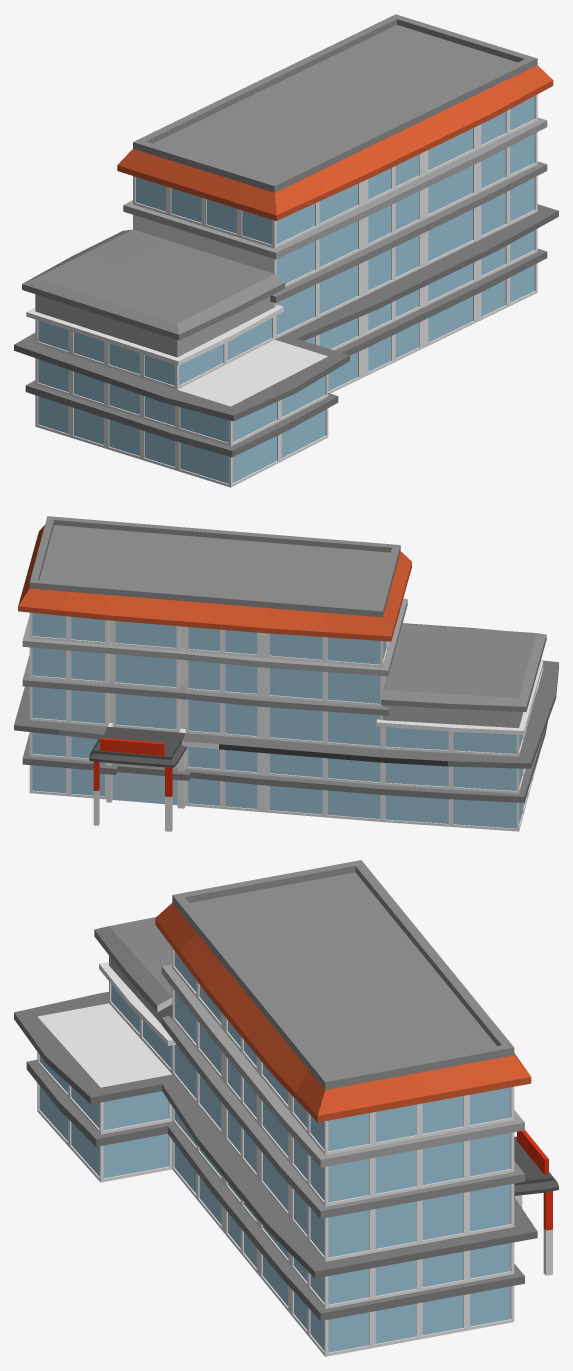
File: rumah skarat 1.fbx
3 views of the same model, one above another, from view 1: azimuth 30°, elevation 25°; view 2: azimuth 150°, elevation 25°; view 3: azimuth 270°, elevation 25° (orthographic). The views are drawn at different scales.
Parts seen in each view (by area): view 1: Cube.173; view 2: Cube.173; view 3: Cube.173.
Part boxes in pixels (x1,y1,x2,y2): Cube.173: (14,14,558,487); Cube.173: (14,516,558,831); Cube.173: (14,860,558,1356).
Bounding box in the file's own units: 7525 × 3108 × 5534.
